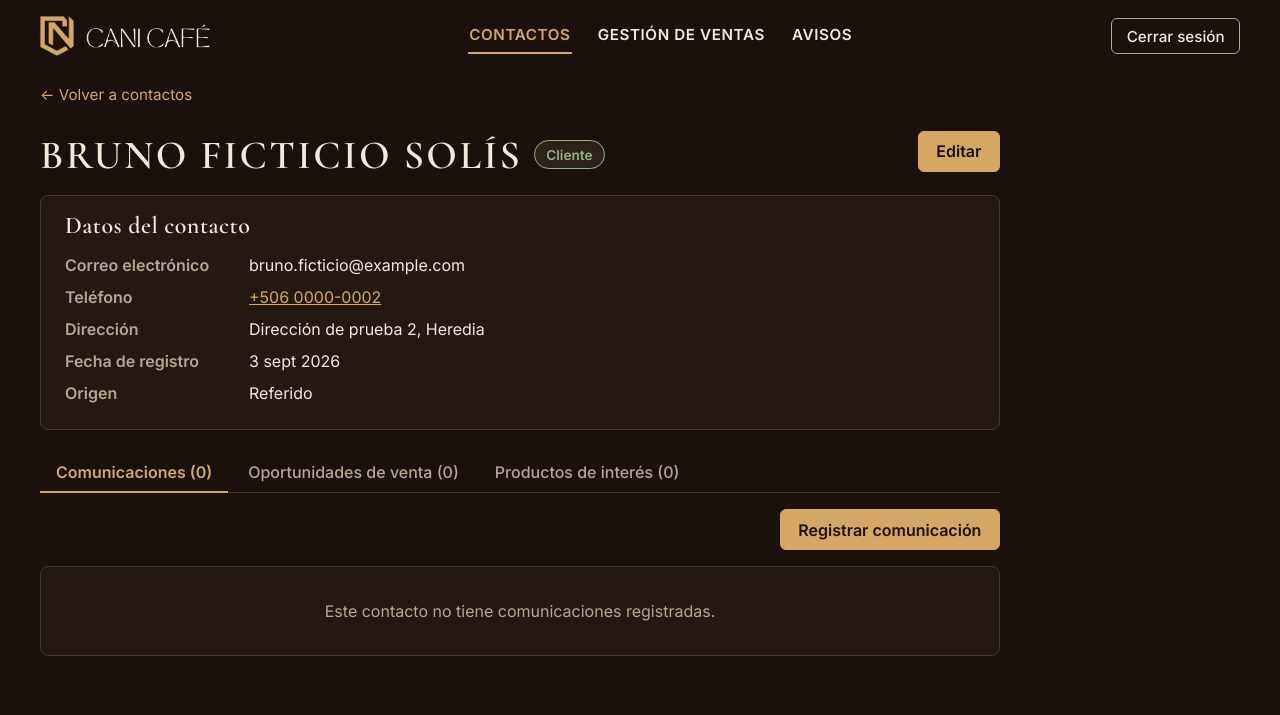
HU-210 Editar un contacto › criterio 3: el nombre sigue siendo obligatorio y debe quedar correo o teléfono
Click the button "Editar" at (959, 151), box [918,131,1000,172]
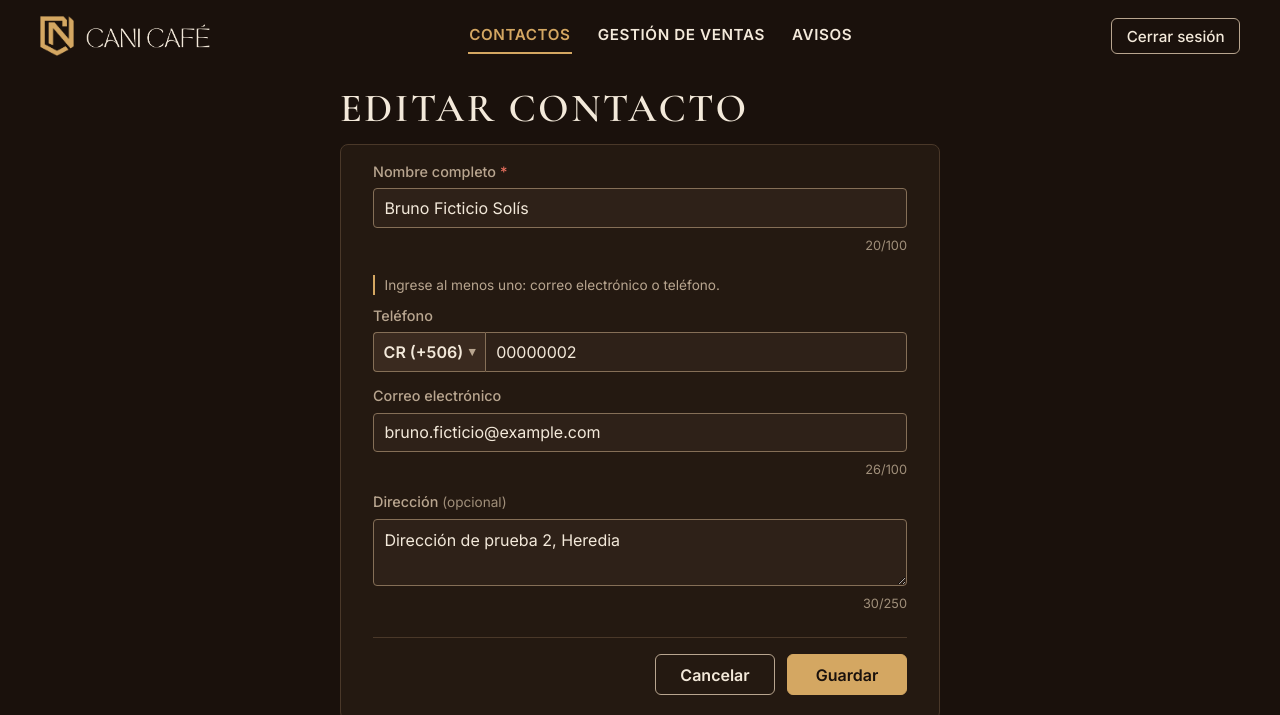
expect the heading "Editar contacto" is shown: met, box [340,84,748,132]
Clear the field labelled "Nombre completo" at (640, 208), box [373,188,907,228]
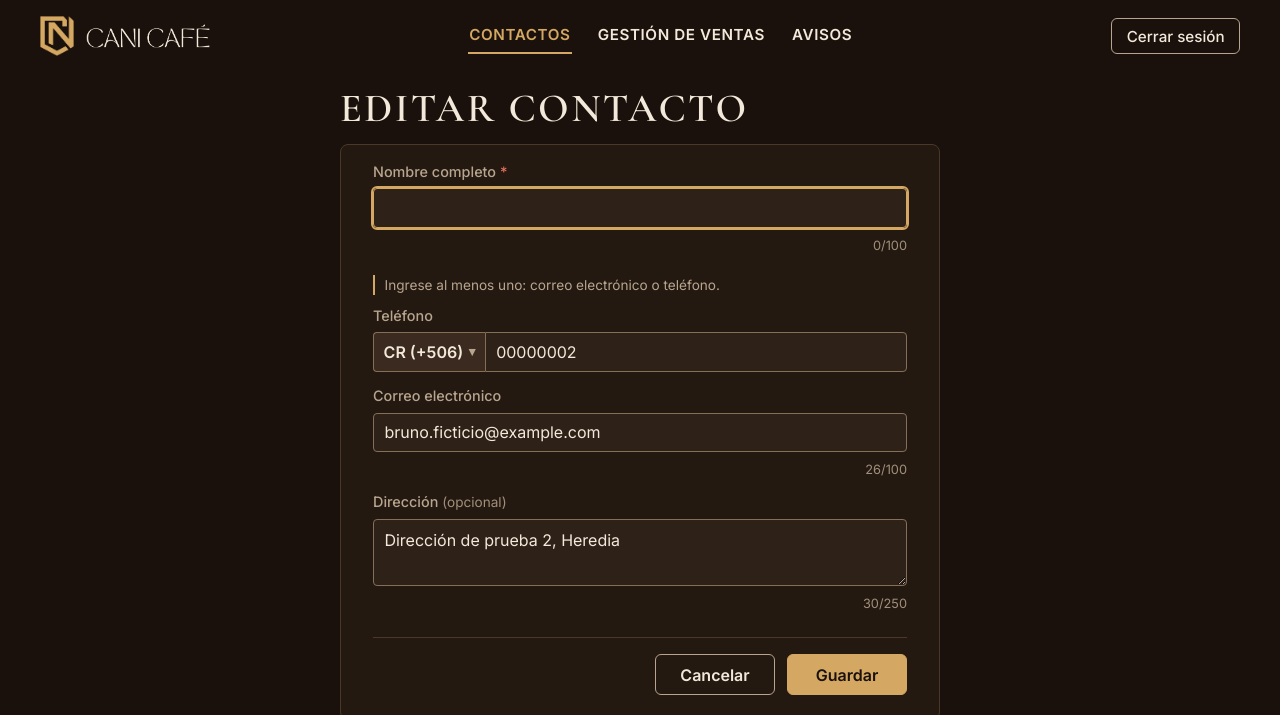
Clear the field labelled "Correo electrónico" at (640, 432), box [373,412,907,452]
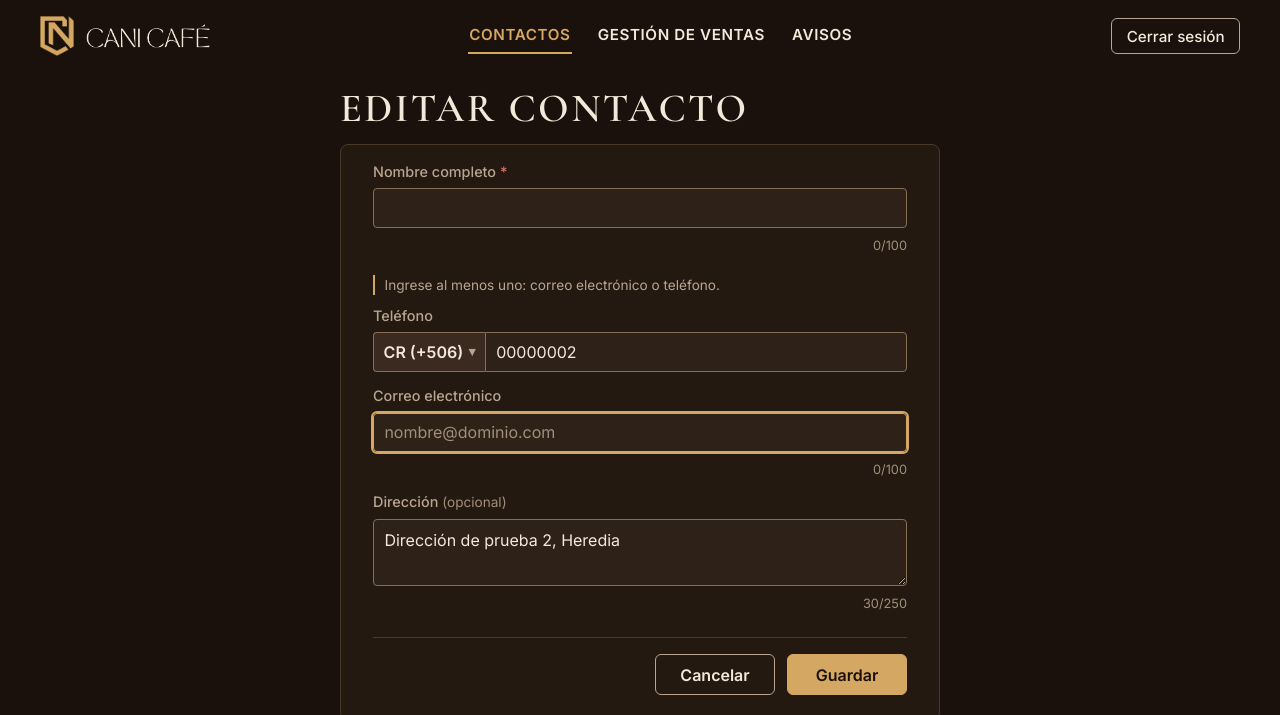
Clear the field labelled "Teléfono" at (696, 352), box [485,332,907,372]
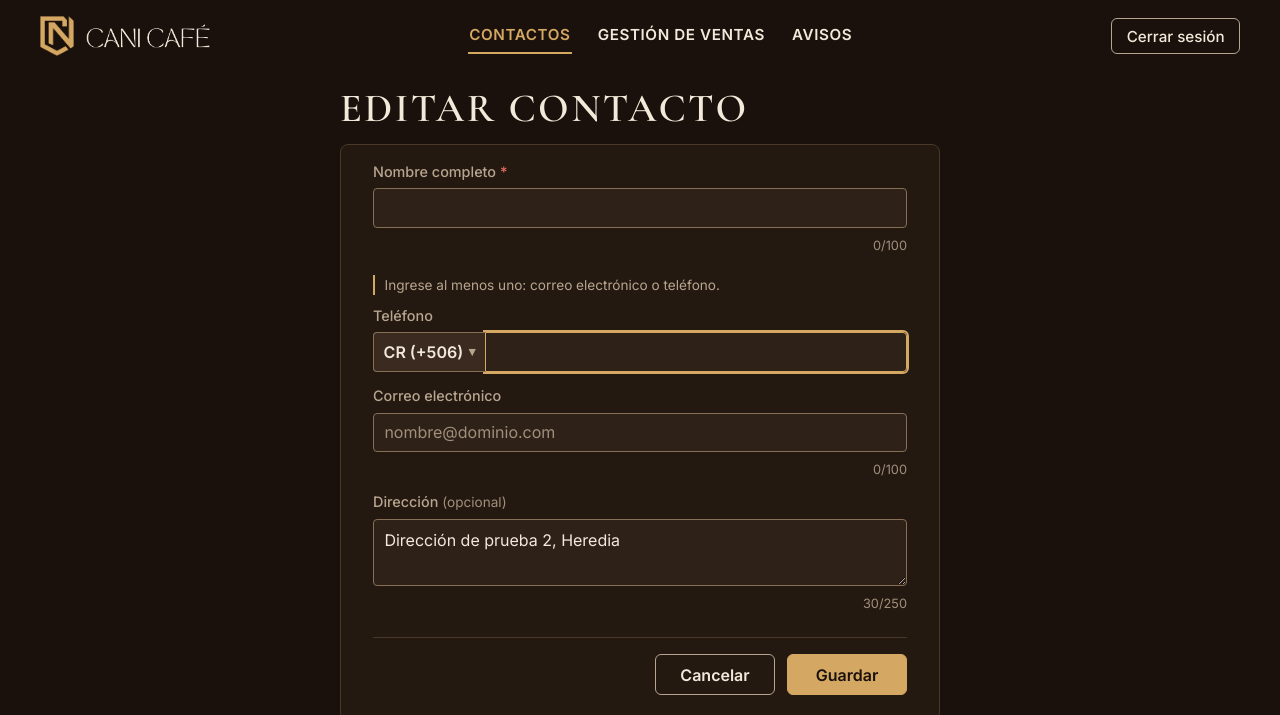
Click the button "Guardar" at (847, 675), box [787,654,907,696]
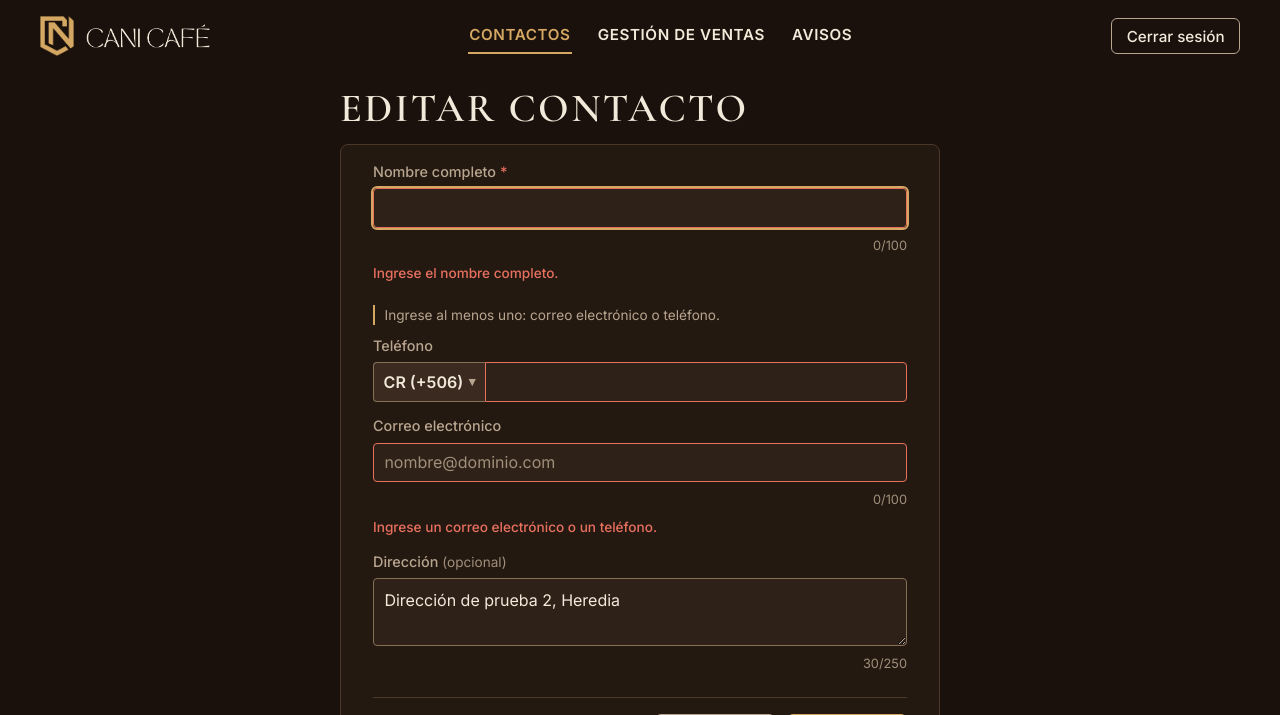
expect the message "Ingrese el nombre completo." is shown: met, box [373,265,558,281]
expect the message "Ingrese un correo electrónico o un teléfono." is shown: met, box [373,519,657,535]
